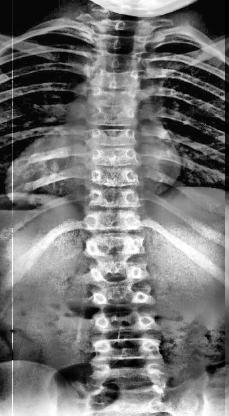Vertebrae: (91, 336, 165, 366), (87, 306, 159, 336), (87, 258, 151, 288), (87, 286, 157, 312), (82, 233, 150, 258), (84, 182, 144, 210), (92, 29, 154, 55), (84, 207, 146, 233), (87, 102, 141, 130), (86, 124, 144, 150), (88, 162, 140, 188), (92, 50, 146, 74), (88, 85, 142, 109), (88, 145, 142, 169), (91, 70, 141, 92)
